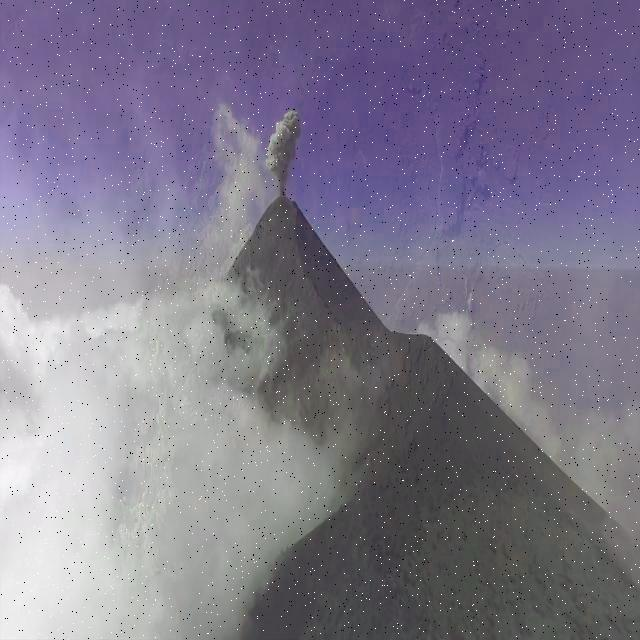Plume: (258, 105, 306, 194)
Summit: (143, 193, 448, 359)
